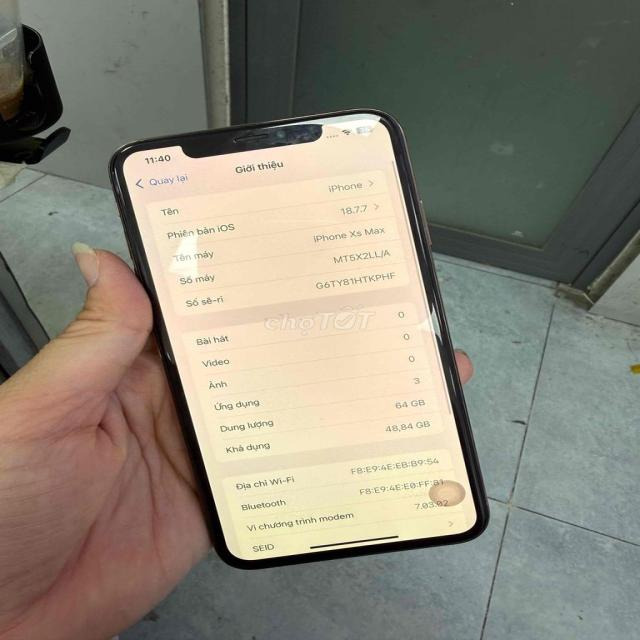gen_x_xs: (108, 114, 495, 575)
